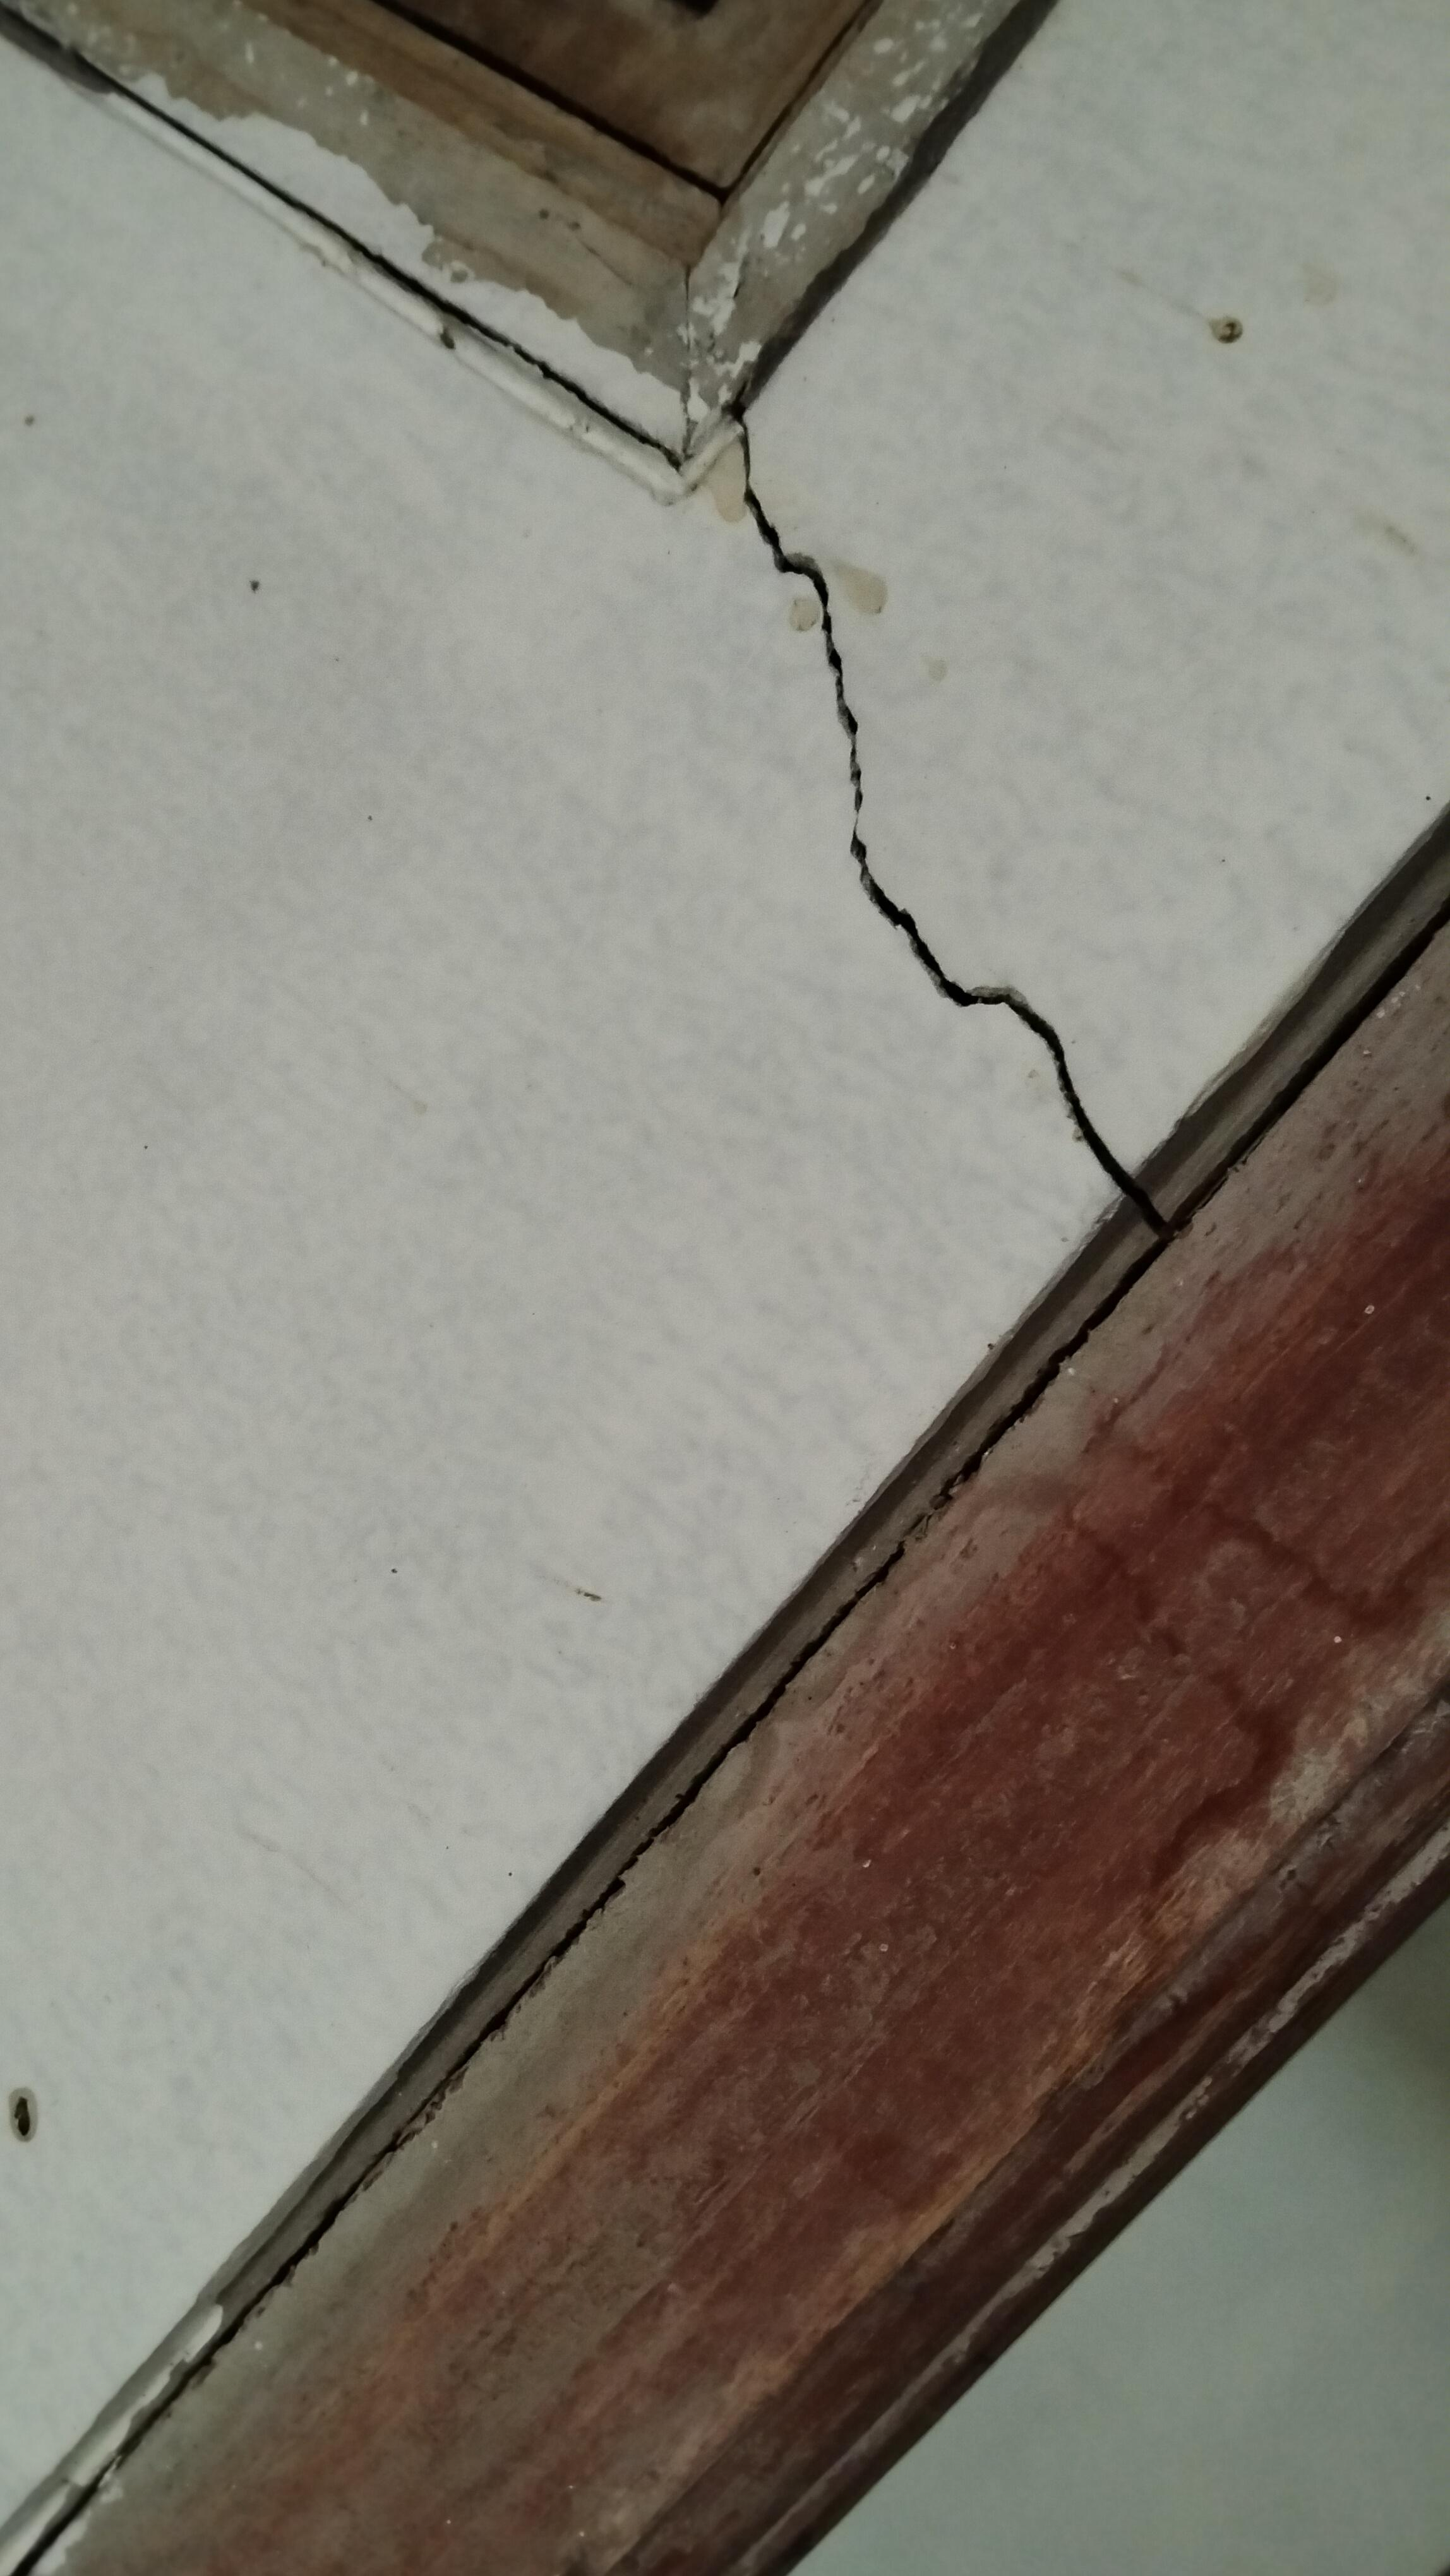Crack: (713, 398, 1161, 1244)
